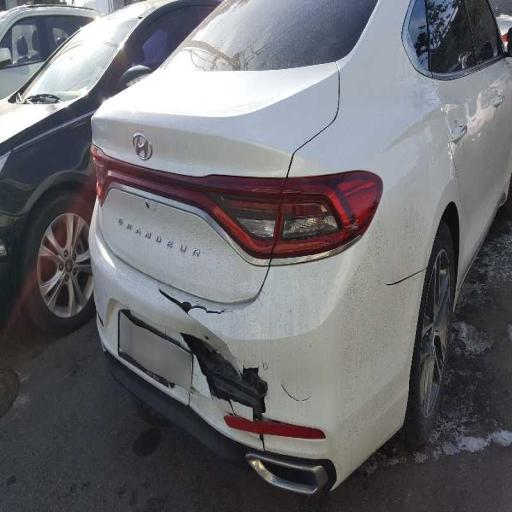broken: (84, 136, 361, 486)
